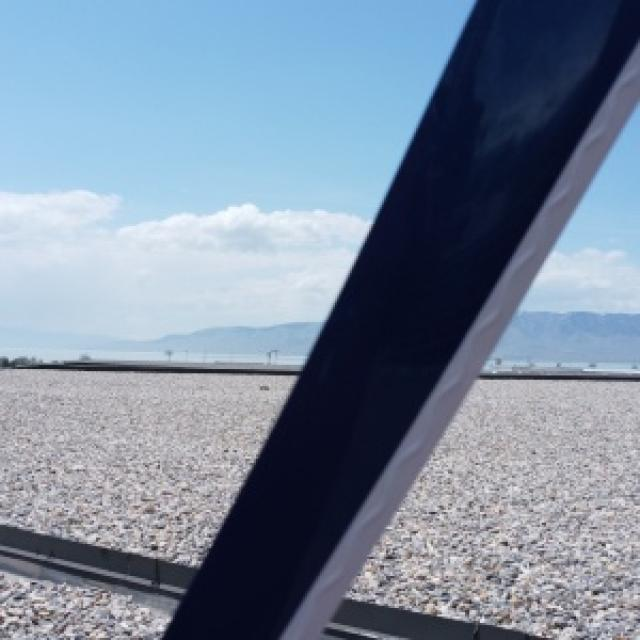healthy: (164, 0, 638, 638)
